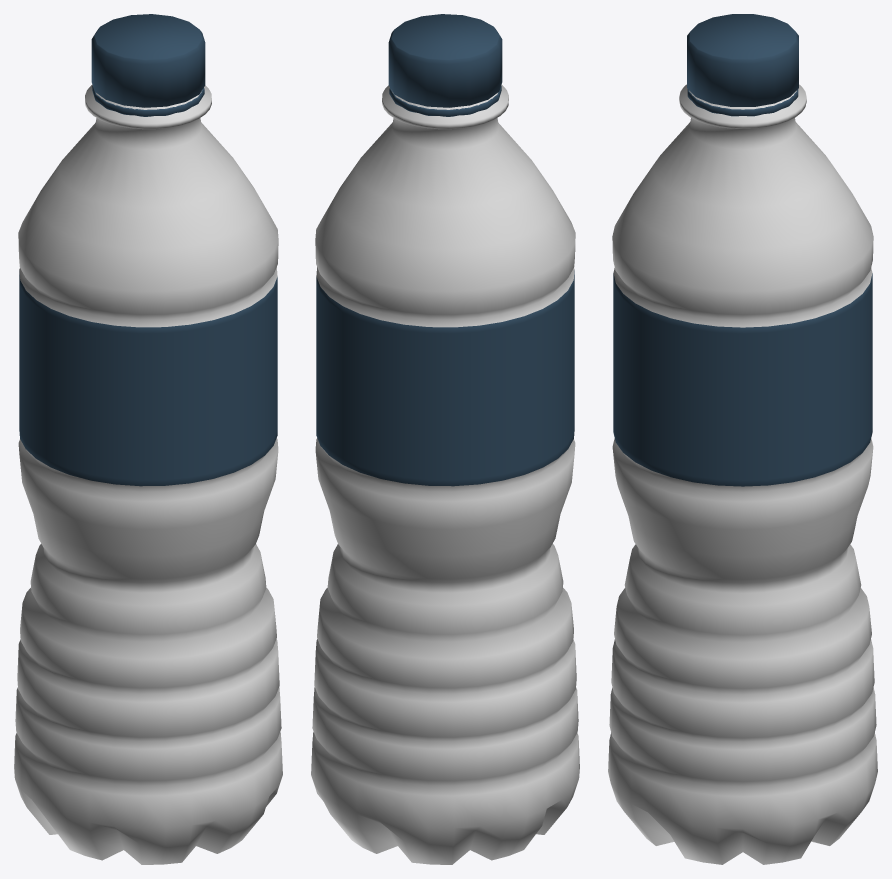
File: plastic bottle.fbx
The picture shows the model from 3 angles, left to right: view 1: azimuth 30°, elevation 25°; view 2: azimuth 150°, elevation 25°; view 3: azimuth 270°, elevation 25°; orthographic projection.
Visible parts, largest first — view 1: plastic bottle; view 2: plastic bottle; view 3: plastic bottle.
Boxes of the visible parts, left/top/right/bottom form: plastic bottle: left=14, top=14, right=282, bottom=864; plastic bottle: left=311, top=14, right=579, bottom=864; plastic bottle: left=608, top=14, right=877, bottom=864.
Bounding box in the file's own units: 6.52 × 20.97 × 6.52.
